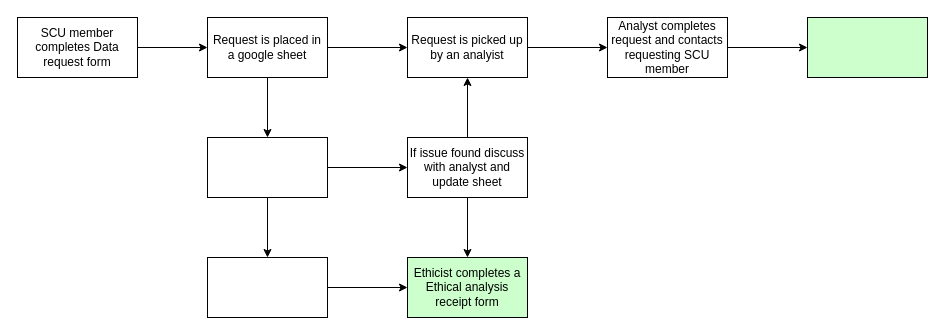
The diagram is 945 pixels wide and 335 high, and some of its shapes have lost their labels. The shapes that lost their labels are listed below. From the top down, each one's centre as x and y in pixels, then its label:
At pixel 867 47: "Analyst completes Data Analysis Receipt form".
At pixel 267 167: "Request reviewed by ethics".
At pixel 267 287: "If no issue found update sheet as compliant".
